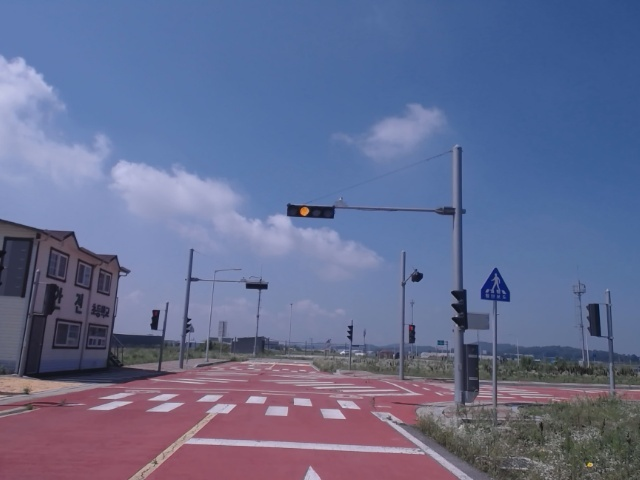orange_4: (286, 205, 336, 218)
